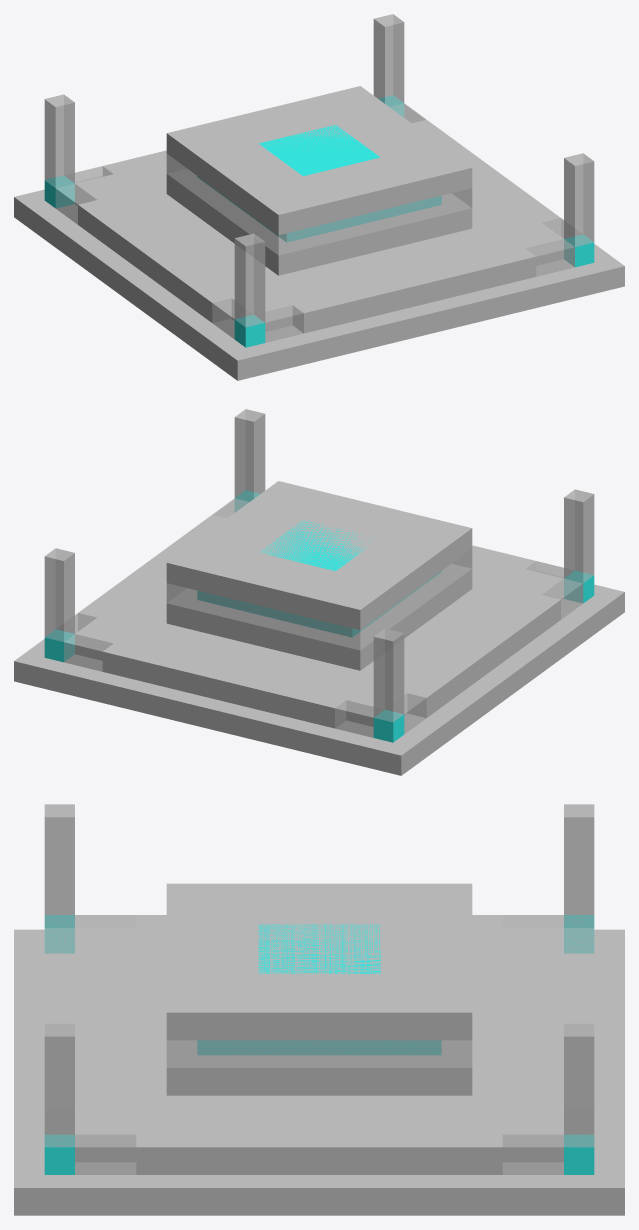
The model's file is metal1base.fbx.
3 views of the same model, one above another, from view 1: azimuth 30°, elevation 25°; view 2: azimuth 150°, elevation 25°; view 3: azimuth 270°, elevation 25° (orthographic). The views are drawn at different scales.
Parts seen in each view (by area): view 1: metal1; view 2: metal1; view 3: metal1.
Boxes of the visible parts, x1,y1,x2,y2 form: metal1: [14, 14, 624, 380]; metal1: [14, 409, 624, 775]; metal1: [14, 804, 624, 1215].
Bounding box in the file's own units: 200 × 60 × 200.
